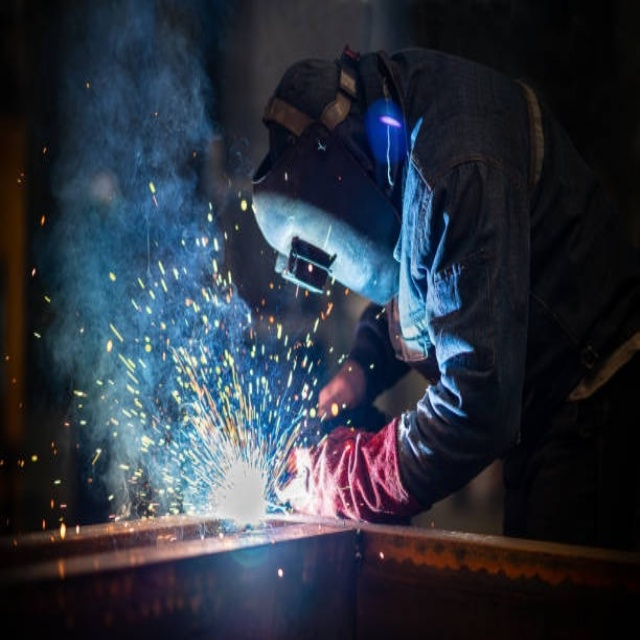Guantes: (267, 408, 414, 513)
